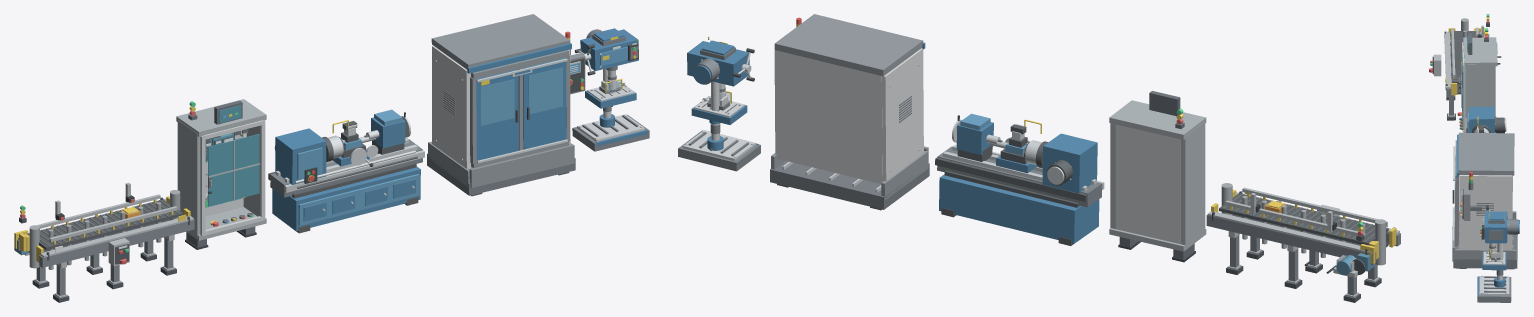
The picture shows the model from 3 angles, left to right: view 1: azimuth 30°, elevation 25°; view 2: azimuth 150°, elevation 25°; view 3: azimuth 270°, elevation 25°; orthographic projection. The views are drawn at different scales.
Parts seen in each view (by area): view 1: TopCover, LeftWall, RightSlidingDoor, LeftSlidingDoor, Panel_Window_Glass, BaseCabinet, Panel_RightSide, BaseFrontSkirt, Headstock, Belt_Top, BaseFrontPanel, Side_Rail_-043 (+28 smaller); view 2: BackWall, Panel_Backplate, BaseCabinet, TopCover, LeftWall, BaseFrame, Panel_RightSide, Headstock, Panel_Top, Belt_Top, Side_Rail_043, RearBedRail (+15 smaller); view 3: RightWall, TopCover, Panel_LeftSide, Panel_Top, Headstock, BaseFrame, HeadCasting, BaseRightSkirt, Belt_Top, BaseTopPlate, Side_Rail_Top_-043, BaseCasting (+25 smaller).
Boxes of the visible parts, x1,y1,x2,y2 form: TopCover: (431, 14, 570, 69); LeftWall: (432, 45, 470, 168); RightSlidingDoor: (523, 58, 566, 149); LeftSlidingDoor: (476, 69, 518, 161); Panel_Window_Glass: (208, 134, 259, 206); BaseCabinet: (272, 166, 420, 231); Panel_RightSide: (177, 120, 200, 237); BaseFrontSkirt: (469, 144, 574, 187); Headstock: (275, 128, 326, 184); Belt_Top: (27, 199, 182, 250); BaseFrontPanel: (298, 174, 419, 225); Side_Rail_-043: (39, 219, 194, 267); BackWall: (778, 51, 882, 183); Panel_Backplate: (1115, 124, 1180, 243); BaseCabinet: (939, 174, 1099, 243); TopCover: (774, 14, 923, 76); LeftWall: (882, 48, 923, 181); BaseFrame: (770, 161, 929, 209); Panel_RightSide: (1180, 121, 1205, 247); Headstock: (1042, 133, 1097, 193); Panel_Top: (1109, 100, 1206, 139); Belt_Top: (1219, 193, 1388, 245); Side_Rail_043: (1206, 215, 1376, 264); RearBedRail: (935, 157, 1087, 201); RightWall: (1459, 175, 1512, 250); TopCover: (1458, 132, 1514, 175); Panel_LeftSide: (1466, 64, 1495, 128); Panel_Top: (1463, 37, 1497, 66); Headstock: (1469, 106, 1494, 132); BaseFrame: (1453, 224, 1517, 268); HeadCasting: (1485, 211, 1507, 243); BaseRightSkirt: (1455, 249, 1515, 262); Belt_Top: (1450, 31, 1479, 84); BaseTopPlate: (1479, 276, 1509, 295); Side_Rail_Top_-043: (1444, 31, 1451, 88); BaseCasting: (1477, 276, 1511, 302).
Bounding box in the file's own units: 13.34 × 2.91 × 2.2.
